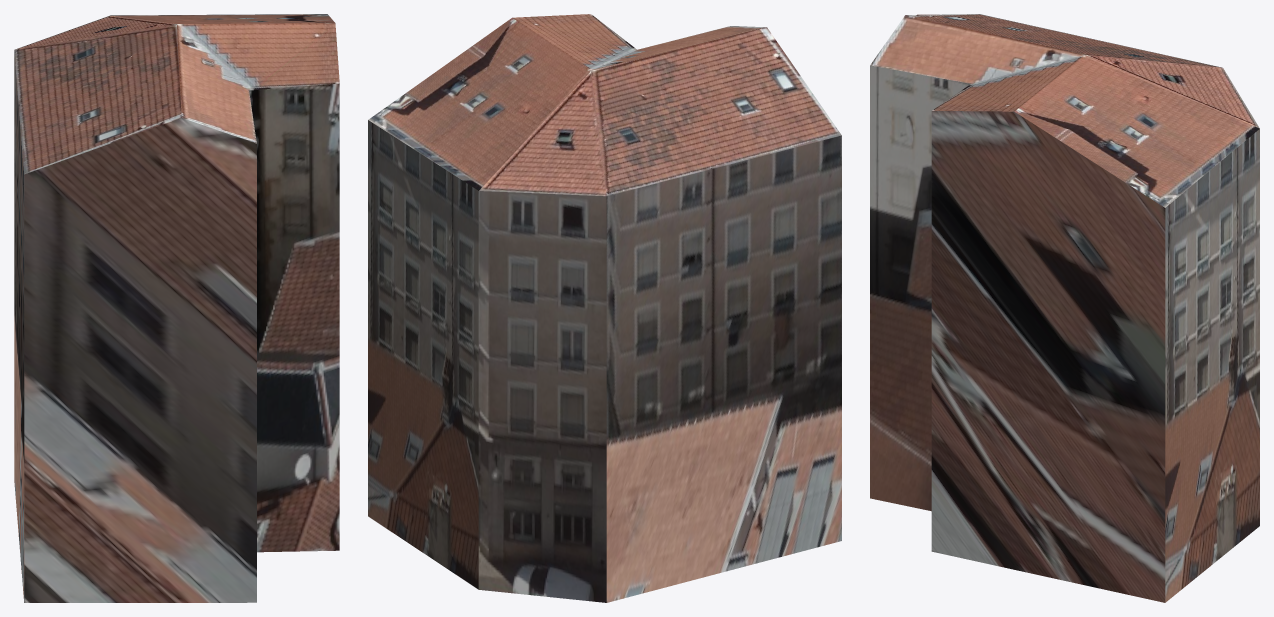
3 views of the same model, side by side, from view 1: azimuth 30°, elevation 25°; view 2: azimuth 150°, elevation 25°; view 3: azimuth 270°, elevation 25° (orthographic). The views are drawn at different scales.
Parts seen in each view (by area): view 1: Z_UP; view 2: Z_UP; view 3: Z_UP.
Boxes of the visible parts, x1,y1,x2,y2 form: Z_UP: (14,14,339,602); Z_UP: (368,14,841,602); Z_UP: (870,14,1259,602).
Bounding box in the file's own units: 23.01 × 26.63 × 20.5.
Materials: 2 (1 with a texture image).
